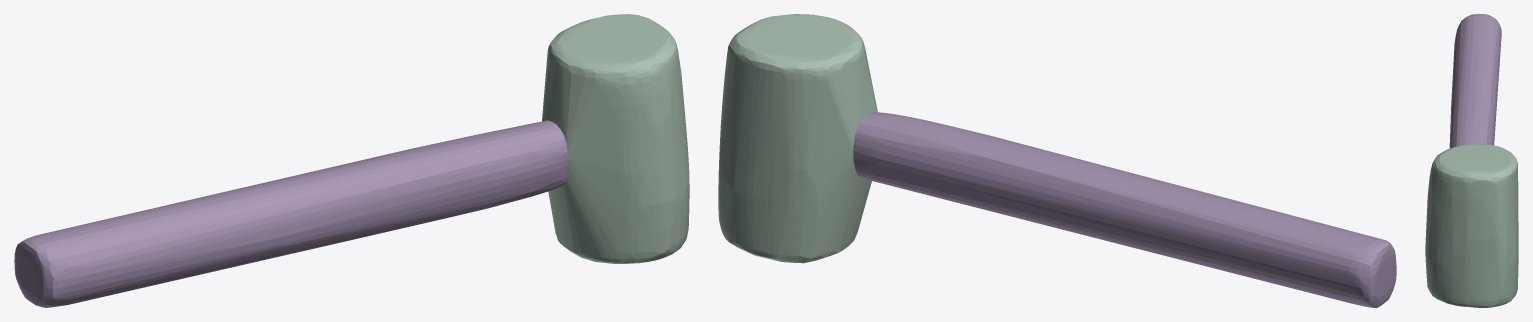
File: mallet_hammer-collision.glb
The picture shows the model from 3 angles, left to right: view 1: azimuth 30°, elevation 25°; view 2: azimuth 150°, elevation 25°; view 3: azimuth 270°, elevation 25°; orthographic projection. The views are drawn at different scales.
Visible parts, largest first — view 1: mallet_hammer_collision1_0, mallet_hammer_collision0_0; view 2: mallet_hammer_collision1_0, mallet_hammer_collision0_0; view 3: mallet_hammer_collision0_0, mallet_hammer_collision1_0.
Part boxes in pixels (left/top/right/bottom): mallet_hammer_collision1_0: left=14, top=120, right=567, bottom=307; mallet_hammer_collision0_0: left=542, top=14, right=689, bottom=263; mallet_hammer_collision1_0: left=853, top=112, right=1396, bottom=307; mallet_hammer_collision0_0: left=718, top=14, right=877, bottom=263; mallet_hammer_collision0_0: left=1425, top=144, right=1518, bottom=307; mallet_hammer_collision1_0: left=1449, top=14, right=1501, bottom=148.
Size of the model in its own units: 0.3001 by 0.0896 by 0.0566.
